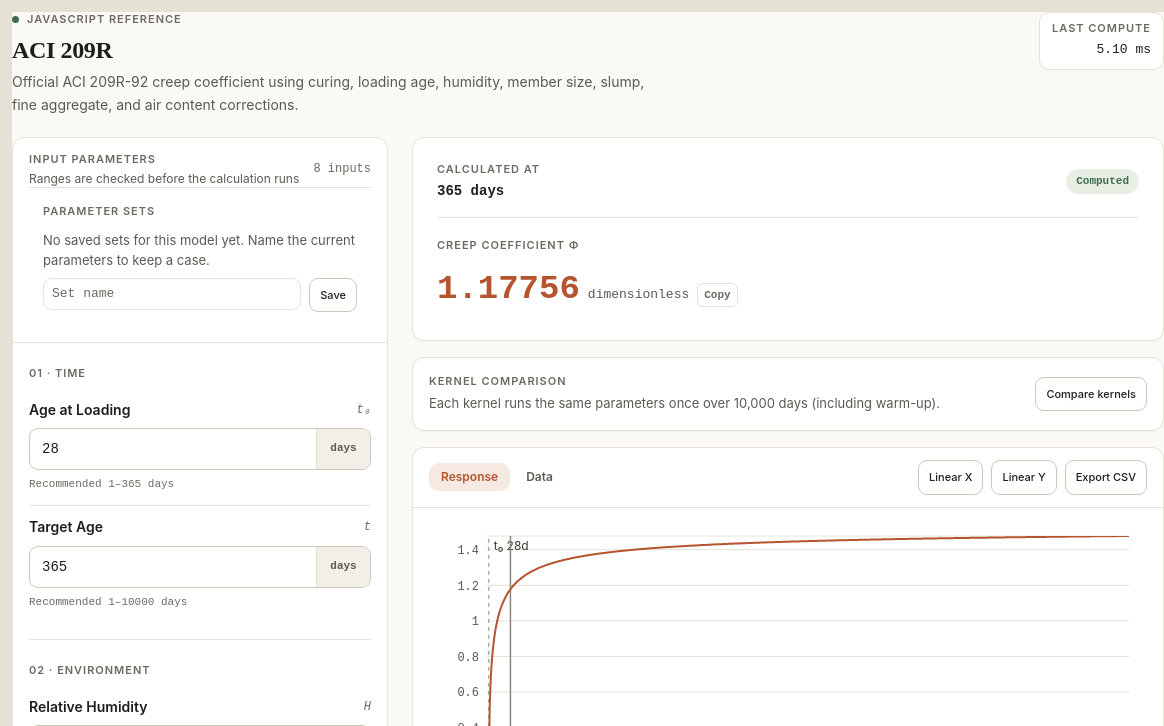
Scenario: ModelCalculator workspace state › changing only Target Age updates the metric without marking results stale
Expected: the text "Computed" is shown, [1066,169,1139,194]
Replace the text in the number field labelled "Target Age" with "1000" at (173, 566), box [30,546,316,586]
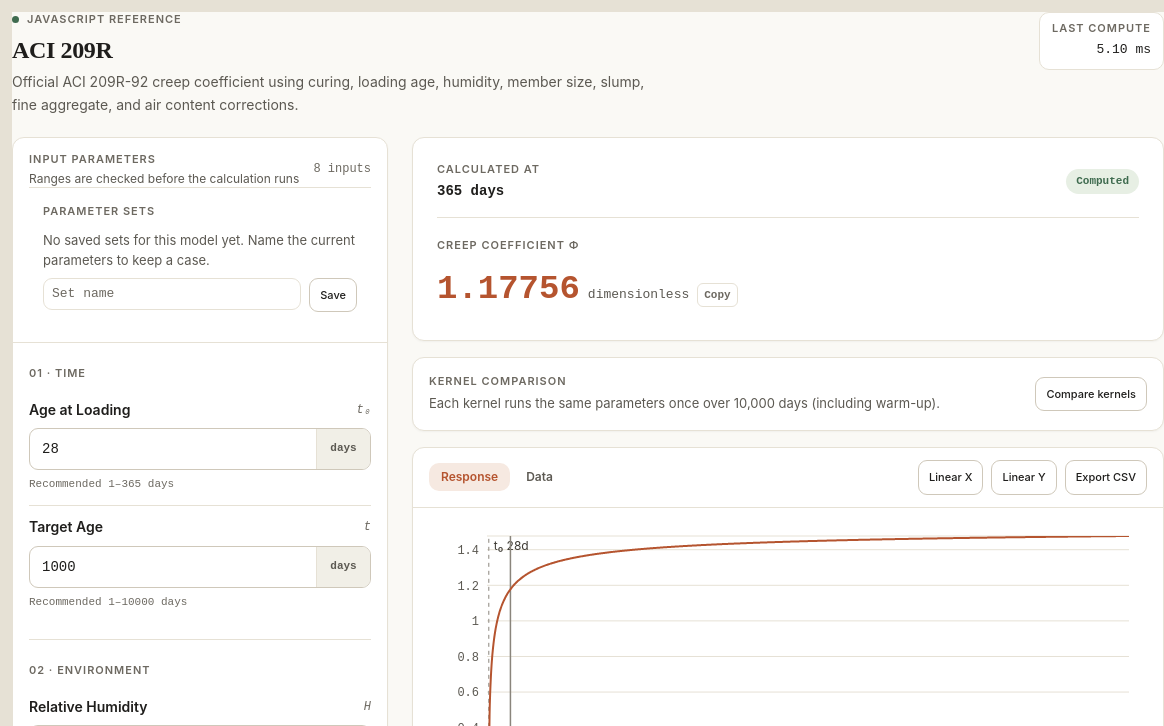
Leave the number field labelled "Target Age", box [30,546,316,586]
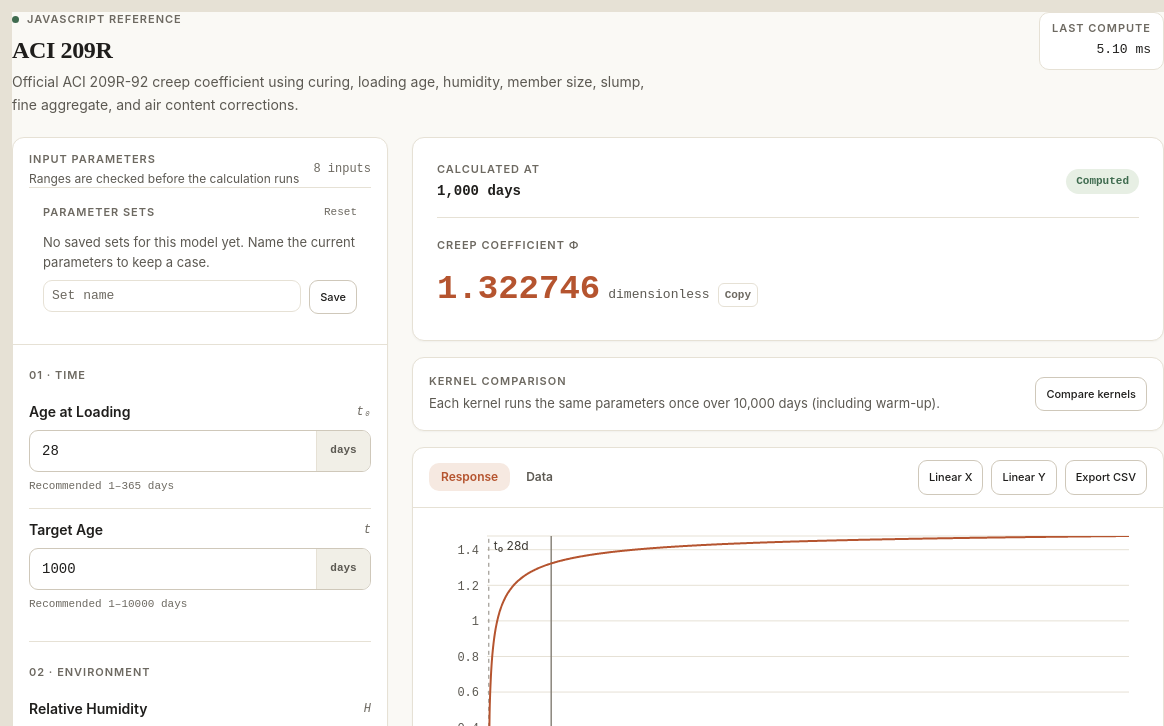
Now the text "1.322746" is shown, box [437,262,600,316]
